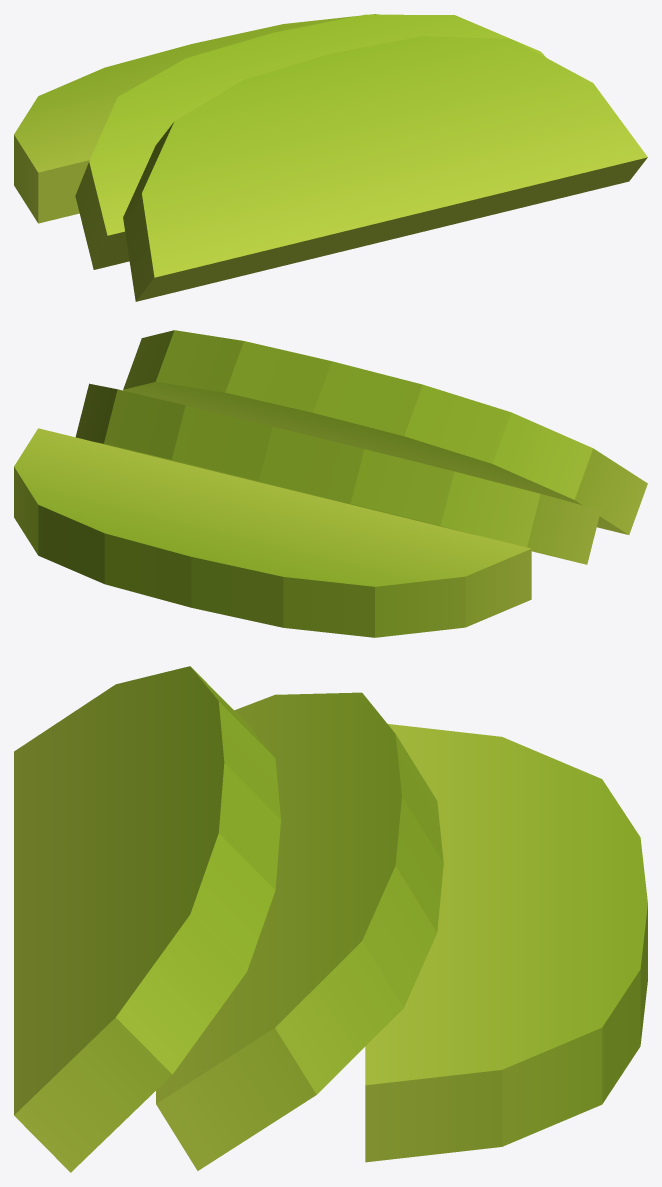
The model's file is Kiwano Slice.fbx.
3 views of the same model, one above another, from view 1: azimuth 30°, elevation 25°; view 2: azimuth 150°, elevation 25°; view 3: azimuth 270°, elevation 25° (orthographic). The views are drawn at different scales.
Visible parts, largest first — view 1: Kiwano Slice.002, Kiwano Slice.001, Kiwano Slice; view 2: Kiwano Slice, Kiwano Slice.002, Kiwano Slice.001; view 3: Kiwano Slice.002, Kiwano Slice, Kiwano Slice.001.
Part boxes in pixels (x1,y1,x2,y2): Kiwano Slice.002: (123,36,647,301); Kiwano Slice.001: (75,14,546,269); Kiwano Slice: (14,14,378,223); Kiwano Slice: (14,428,531,637); Kiwano Slice.002: (123,330,647,534); Kiwano Slice.001: (75,383,600,564); Kiwano Slice.002: (14,666,280,1172); Kiwano Slice: (365,724,647,1162); Kiwano Slice.001: (156,692,443,1170).
Bounding box in the file's own units: 25.61 × 7.49 × 18.86.
